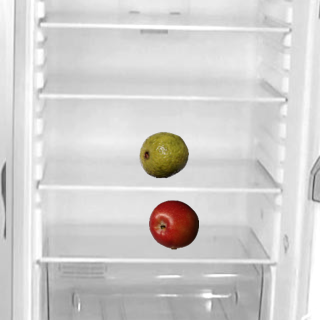Apple Braeburn: (148, 199, 198, 249)
Guava: (138, 129, 188, 179)
